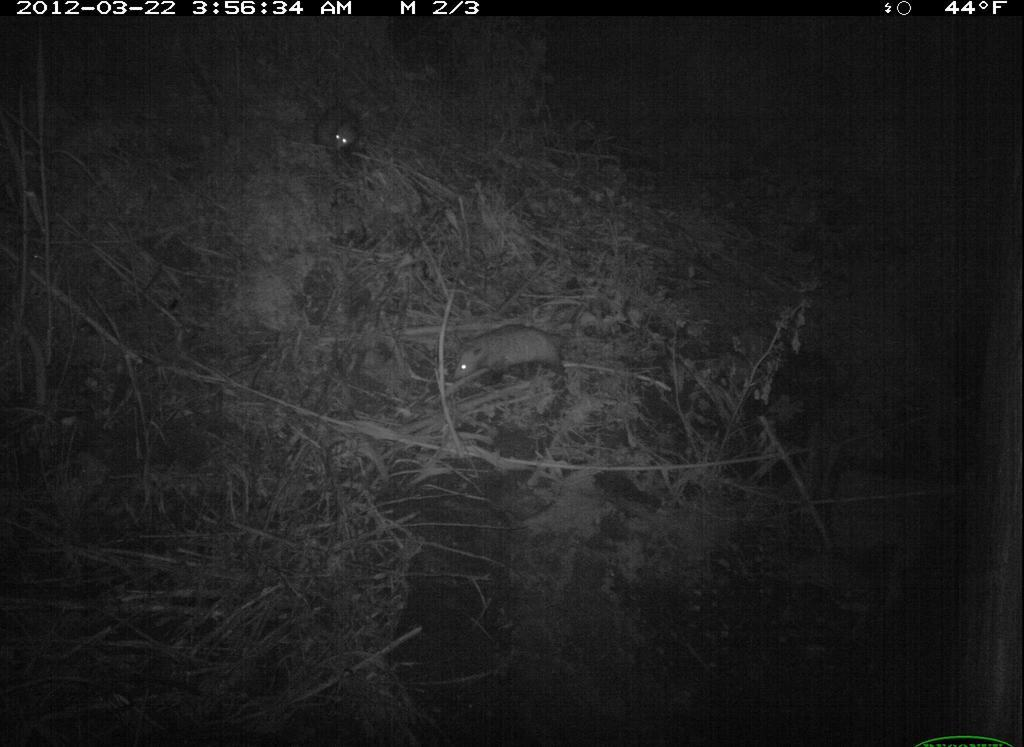opossum: (420, 314, 606, 393), (305, 103, 381, 161)
